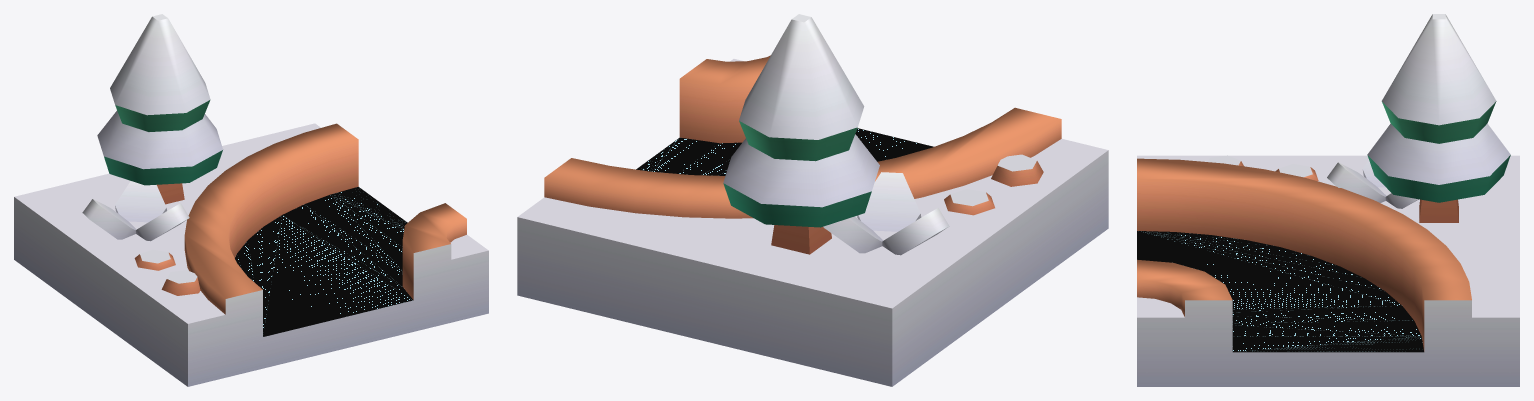
Rendered from kenney-tower-defense-snow-tile-river-corner.glb.
3 renders of one model, left to right at view 1: azimuth 30°, elevation 25°; view 2: azimuth 150°, elevation 25°; view 3: azimuth 270°, elevation 25°, orthographic. The views are drawn at different scales.
Visible parts, largest first — view 1: snow-tile-river-corner; view 2: snow-tile-river-corner; view 3: snow-tile-river-corner.
Part boxes in pixels (box(x1,y1,x2,y2)): snow-tile-river-corner: box(14, 14, 488, 386); snow-tile-river-corner: box(517, 14, 1108, 386); snow-tile-river-corner: box(1137, 14, 1519, 386).
Size of the model in its own units: 1 by 0.77 by 1.
Materials: 1 (1 with a texture image).
